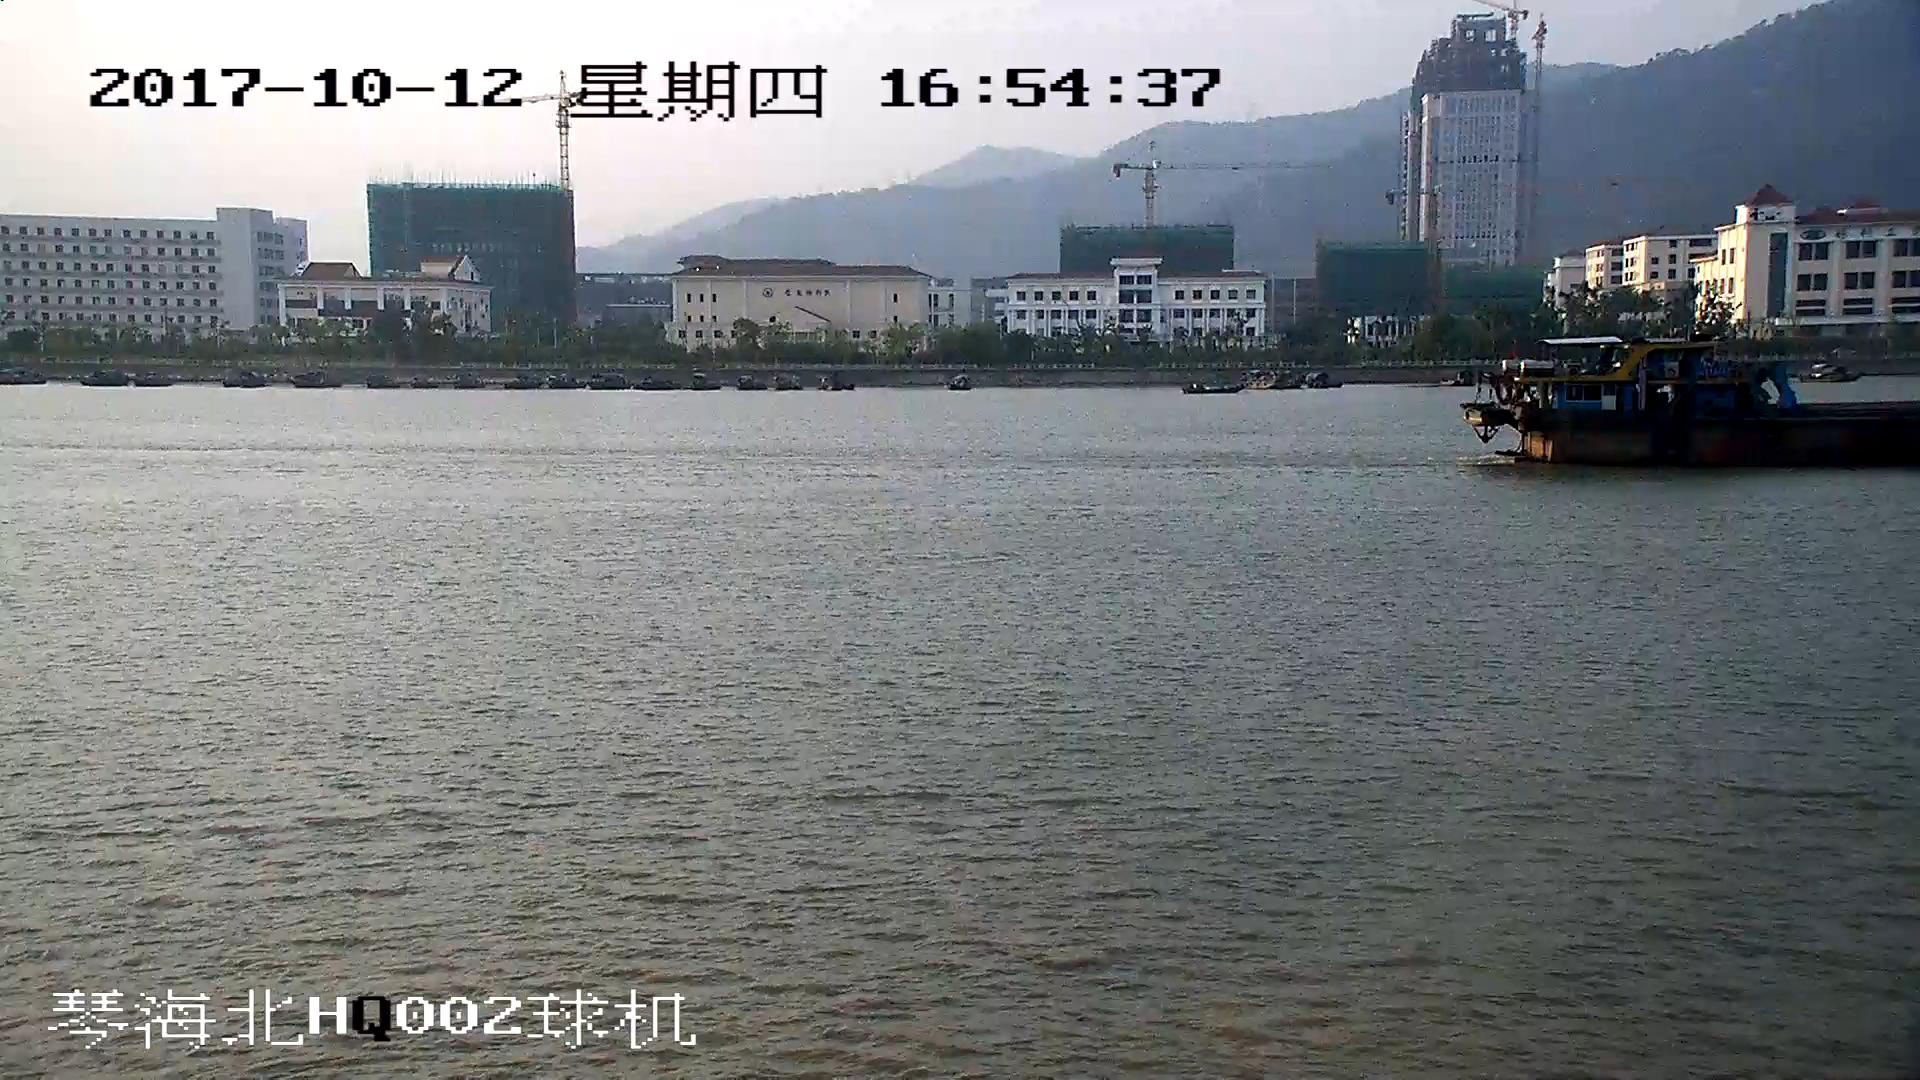bulk cargo carrier: (1464, 337, 1920, 474)
